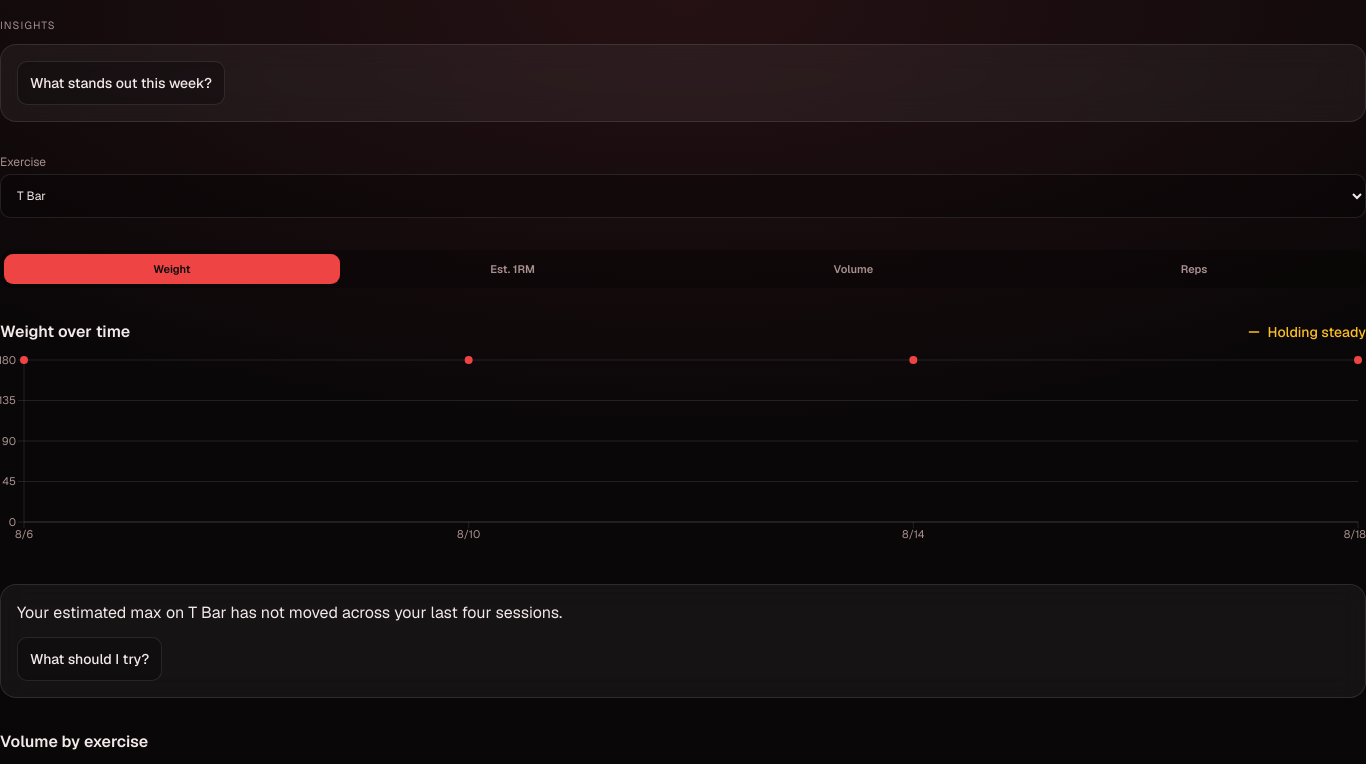
Test case: replaces the card when the exercise changes
Expected: the text "Your estimated max on T Bar" is shown, [17,602,562,623]
Select "Machine Chest Press" in the dropdown at [683, 196], box [0,174,1365,218]
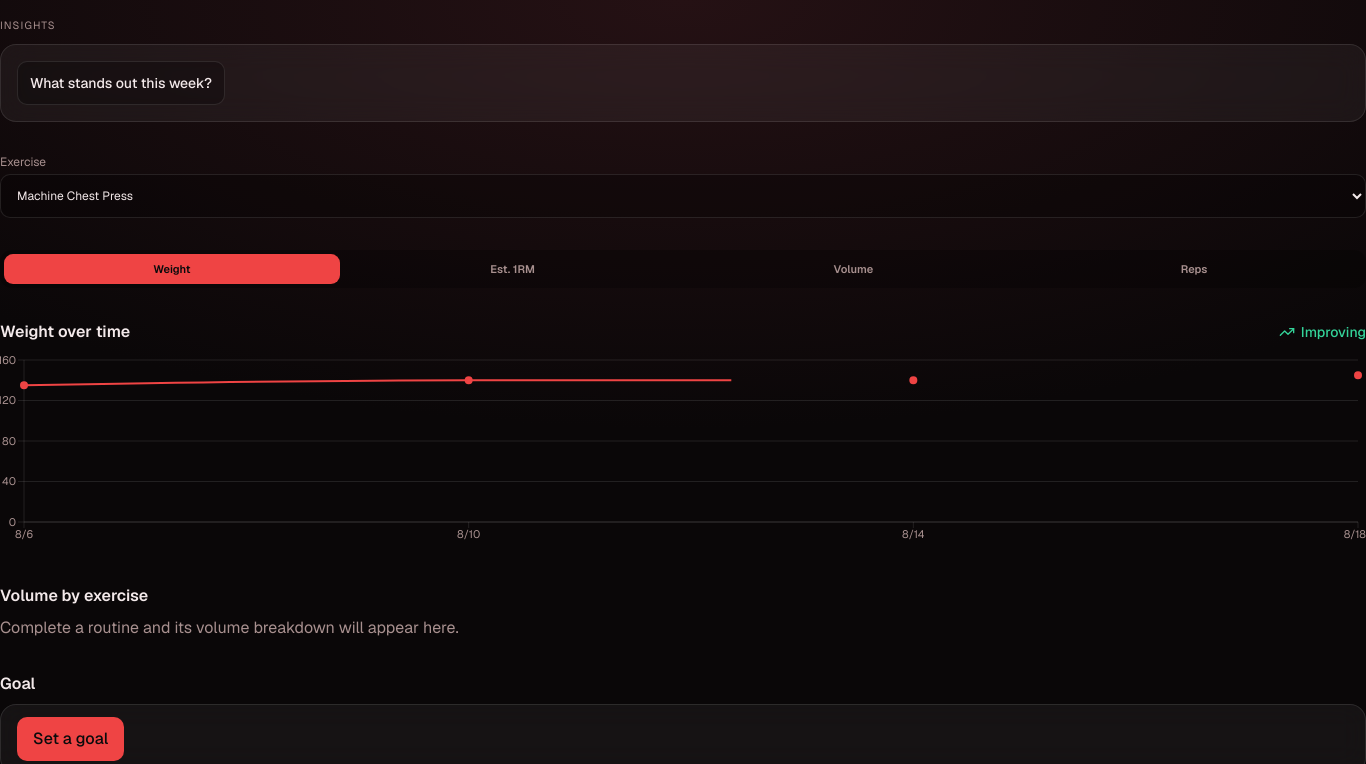
Result: the text "Your estimated max on T Bar" is gone
Result: the button "What should I try?" is gone
